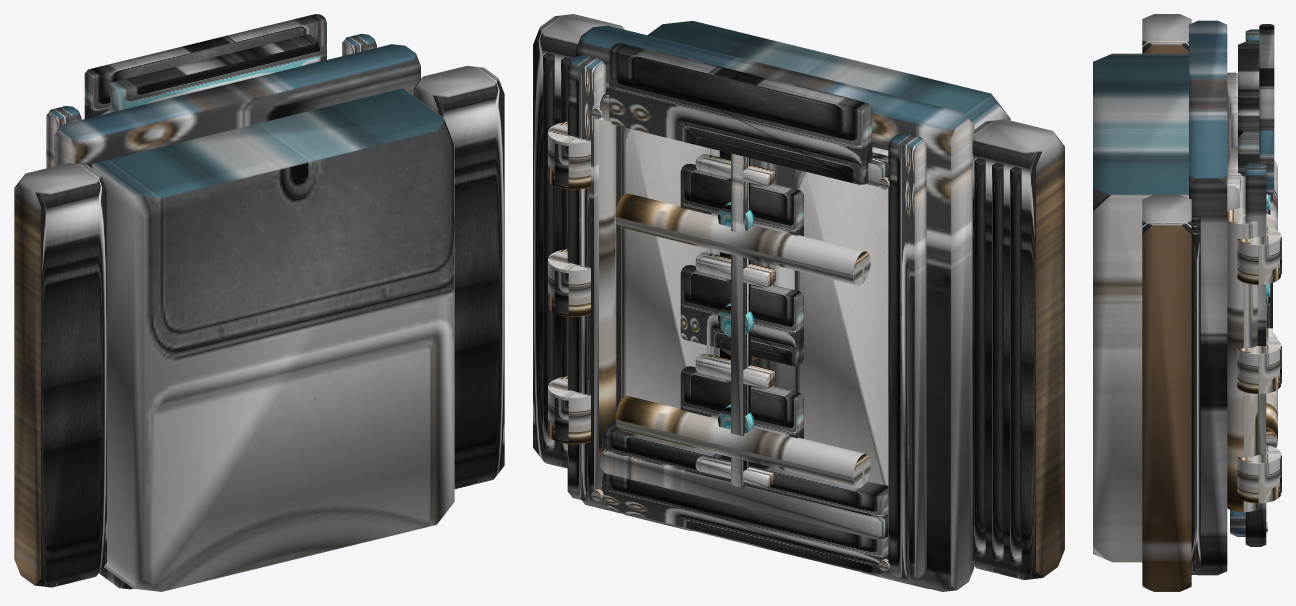
The model's file is room_l5_v3_release_key_vault.glb.
The picture shows the model from 3 angles, left to right: view 1: azimuth 30°, elevation 25°; view 2: azimuth 150°, elevation 25°; view 3: azimuth 270°, elevation 25°; orthographic projection. The views are drawn at different scales.
Visible parts, largest first — view 1: graphite_vault_body, vault_pad_-0.78_pad_backing, vault_pad_0.78_pad_backing, shadow_gap_behind_front_door_frame, top_cyan_inspection_window, top_window_recessed_black_gasket, outer_vertical_black_door_gasket_-0.58; view 2: shadow_gap_behind_front_door_frame, vault_pad_-0.78_pad_backing, top_window_recessed_black_gasket, white_ceramic_door_leaf_-0.32, outer_vertical_black_door_gasket_-0.58, white_ceramic_door_leaf_0.32, outer_vertical_black_door_gasket_0.58, bottom_recessed_drawer_0.2, graphite_vault_body, horizontal_brass_handle_1.18, horizontal_brass_handle_0.48, vault_pad_0.78_pad_backing (+22 smaller); view 3: graphite_vault_body, vault_pad_0.78_pad_backing, shadow_gap_behind_front_door_frame, right_vertical_hinge, outer_vertical_black_door_gasket_0.58, vault_pad_0.78_raised_vertical_rib_2, top_cyan_inspection_window, top_window_recessed_black_gasket, stacked_brass_hinge_knuckle_0.44, stacked_brass_hinge_knuckle_1.32, stacked_brass_hinge_knuckle_0.88, vault_pad_-0.78_pad_backing (+6 smaller).
Part boxes in pixels (x1,y1,x2,y2): graphite_vault_body: [92, 88, 454, 591]; vault_pad_-0.78_pad_backing: [14, 162, 106, 587]; vault_pad_0.78_pad_backing: [413, 66, 504, 488]; shadow_gap_behind_front_door_frame: [54, 44, 420, 168]; top_cyan_inspection_window: [110, 34, 320, 112]; top_window_recessed_black_gasket: [84, 14, 326, 118]; outer_vertical_black_door_gasket_-0.58: [46, 106, 81, 168]; shadow_gap_behind_front_door_frame: [576, 25, 974, 591]; vault_pad_-0.78_pad_backing: [972, 119, 1064, 579]; top_window_recessed_black_gasket: [609, 43, 872, 184]; white_ceramic_door_leaf_-0.32: [794, 147, 888, 485]; outer_vertical_black_door_gasket_-0.58: [888, 133, 926, 579]; white_ceramic_door_leaf_0.32: [621, 127, 719, 408]; outer_vertical_black_door_gasket_0.58: [567, 55, 605, 501]; bottom_recessed_drawer_0.2: [602, 472, 889, 574]; graphite_vault_body: [647, 21, 1010, 129]; horizontal_brass_handle_1.18: [615, 193, 870, 285]; horizontal_brass_handle_0.48: [615, 396, 870, 488]; vault_pad_0.78_pad_backing: [533, 14, 624, 468]; graphite_vault_body: [1093, 53, 1188, 562]; vault_pad_0.78_pad_backing: [1142, 194, 1191, 591]; shadow_gap_behind_front_door_frame: [1189, 20, 1227, 575]; right_vertical_hinge: [1227, 208, 1257, 512]; outer_vertical_black_door_gasket_0.58: [1245, 163, 1266, 546]; vault_pad_0.78_raised_vertical_rib_2: [1191, 229, 1200, 571]; top_cyan_inspection_window: [1238, 42, 1259, 176]; top_window_recessed_black_gasket: [1259, 24, 1274, 194]; stacked_brass_hinge_knuckle_0.44: [1237, 445, 1280, 503]; stacked_brass_hinge_knuckle_1.32: [1237, 227, 1280, 284]; stacked_brass_hinge_knuckle_0.88: [1237, 336, 1280, 394]; vault_pad_-0.78_pad_backing: [1142, 14, 1191, 53].
Size of the model in its own units: 1.82 by 1.74 by 0.69.
Materials: 18 (18 with a texture image).
